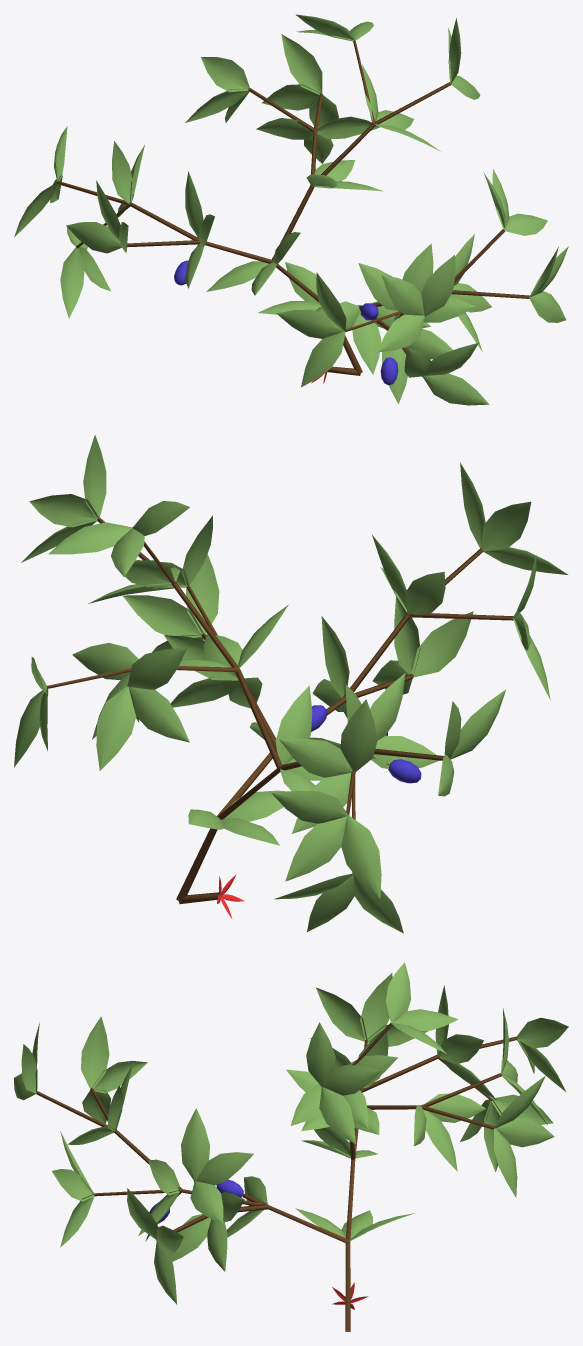
The model's file is plant_seed_42.obj.
The picture shows the model from 3 angles, top to bottom: view 1: azimuth 30°, elevation 25°; view 2: azimuth 150°, elevation 25°; view 3: azimuth 270°, elevation 25°; orthographic projection. The views are drawn at different scales.
Visible parts, largest first — view 1: shape_2, shape_1, shape_3; view 2: shape_2, shape_1, shape_3; view 3: shape_2, shape_1.
Part boxes in pixels (bbox=[...]): shape_2: bbox=[14, 14, 568, 405]; shape_1: bbox=[57, 40, 529, 377]; shape_3: bbox=[174, 260, 398, 385]; shape_2: bbox=[14, 435, 568, 933]; shape_1: bbox=[47, 517, 513, 904]; shape_3: bbox=[311, 705, 421, 783]; shape_2: bbox=[14, 962, 568, 1304]; shape_1: bbox=[36, 1023, 517, 1331].
Bounding box in the file's own units: 5.32 × 4.65 × 6.63.
